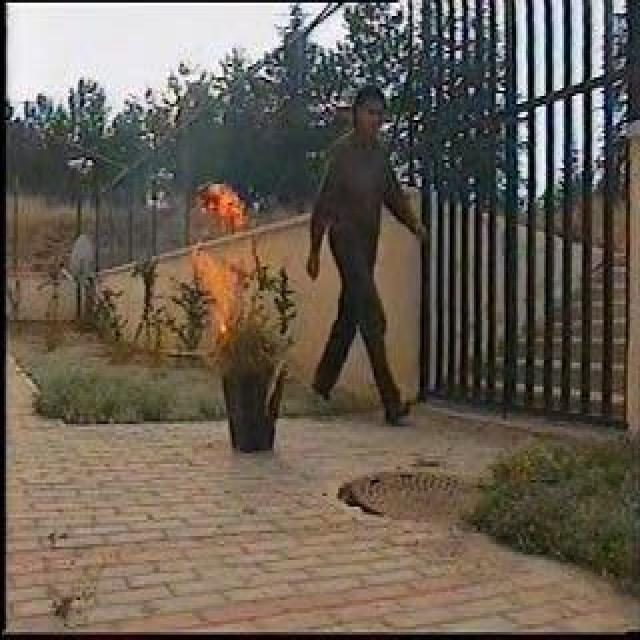fire: (190, 184, 260, 322)
